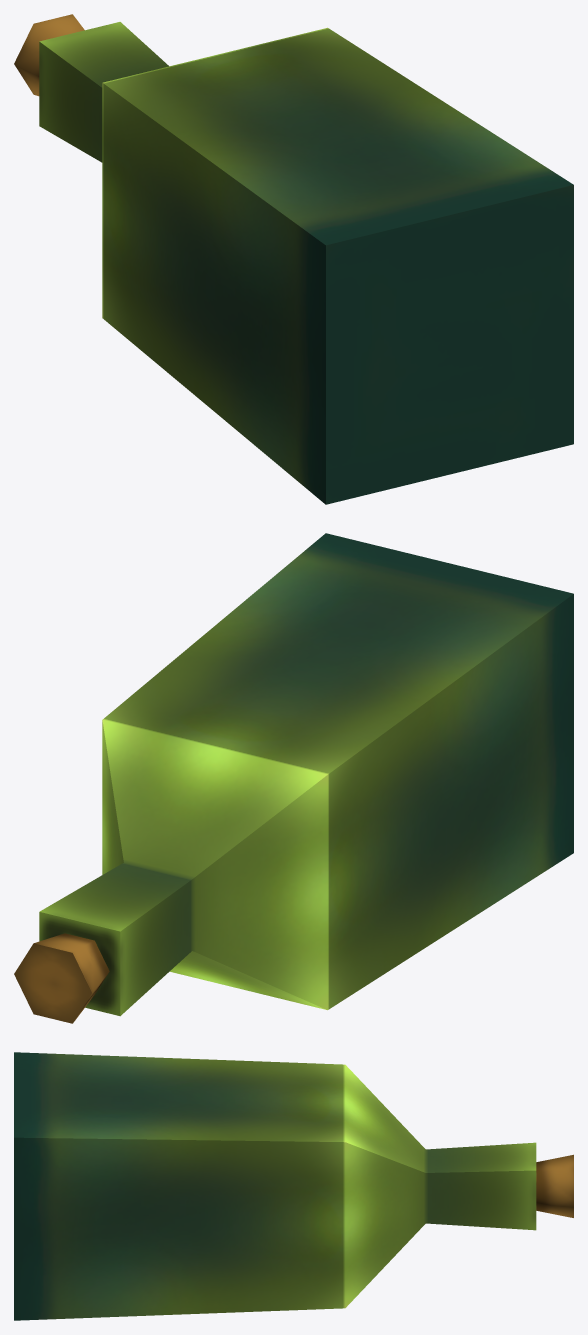
The model's file is Food_bottle1.fbx.
3 views of the same model, one above another, from view 1: azimuth 30°, elevation 25°; view 2: azimuth 150°, elevation 25°; view 3: azimuth 270°, elevation 25° (orthographic). The views are drawn at different scales.
Visible parts, largest first — view 1: Food_bottle1; view 2: Food_bottle1; view 3: Food_bottle1.
Boxes of the visible parts, <box> form: Food_bottle1: <box>14,14,573,504</box>; Food_bottle1: <box>14,533,573,1023</box>; Food_bottle1: <box>14,1052,573,1320</box>.
Size of the model in its own units: 0.1201 by 0.12 by 0.3327.
